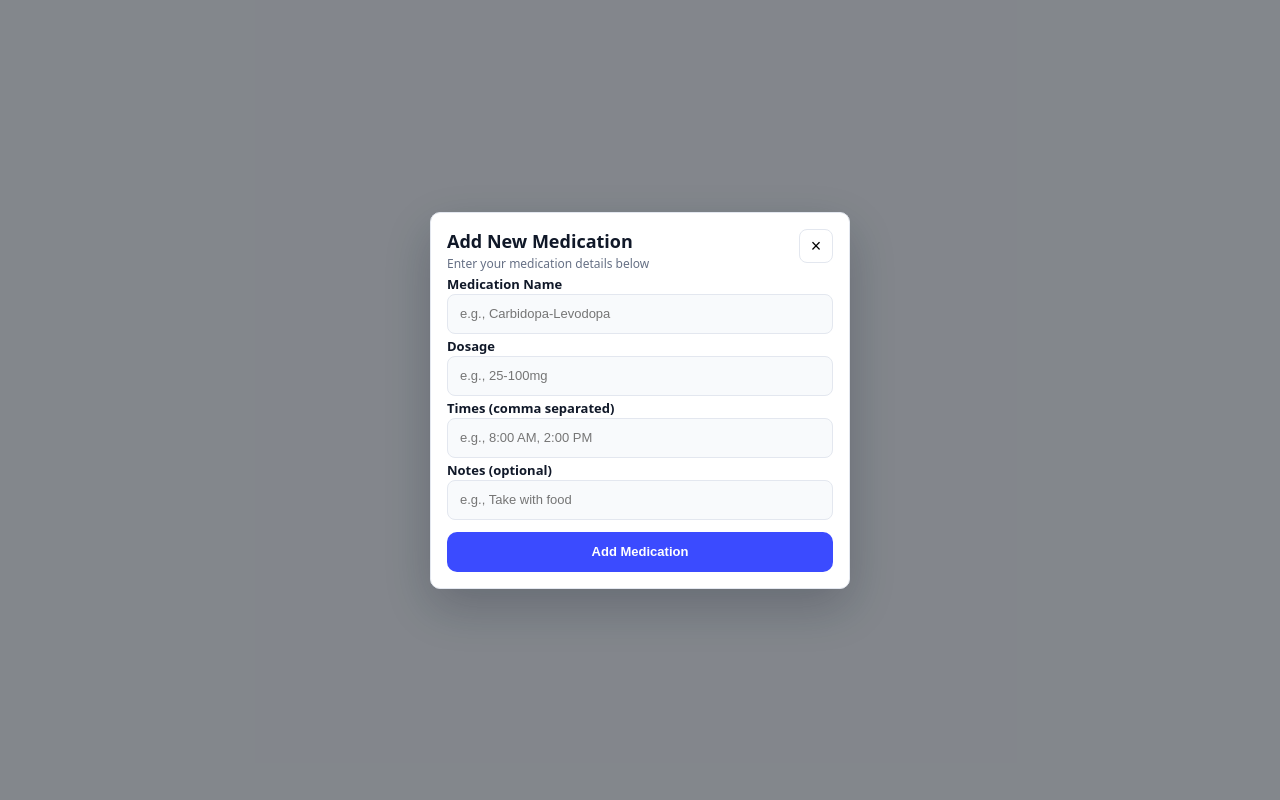
AddMedicationModal interactive test › shows validation error when times are missing
Step 1. Type "Carbidopa-Levodopa" into the field with placeholder "e.g., Carbidopa-Levodopa" → (640,314), box [447, 294, 833, 334]
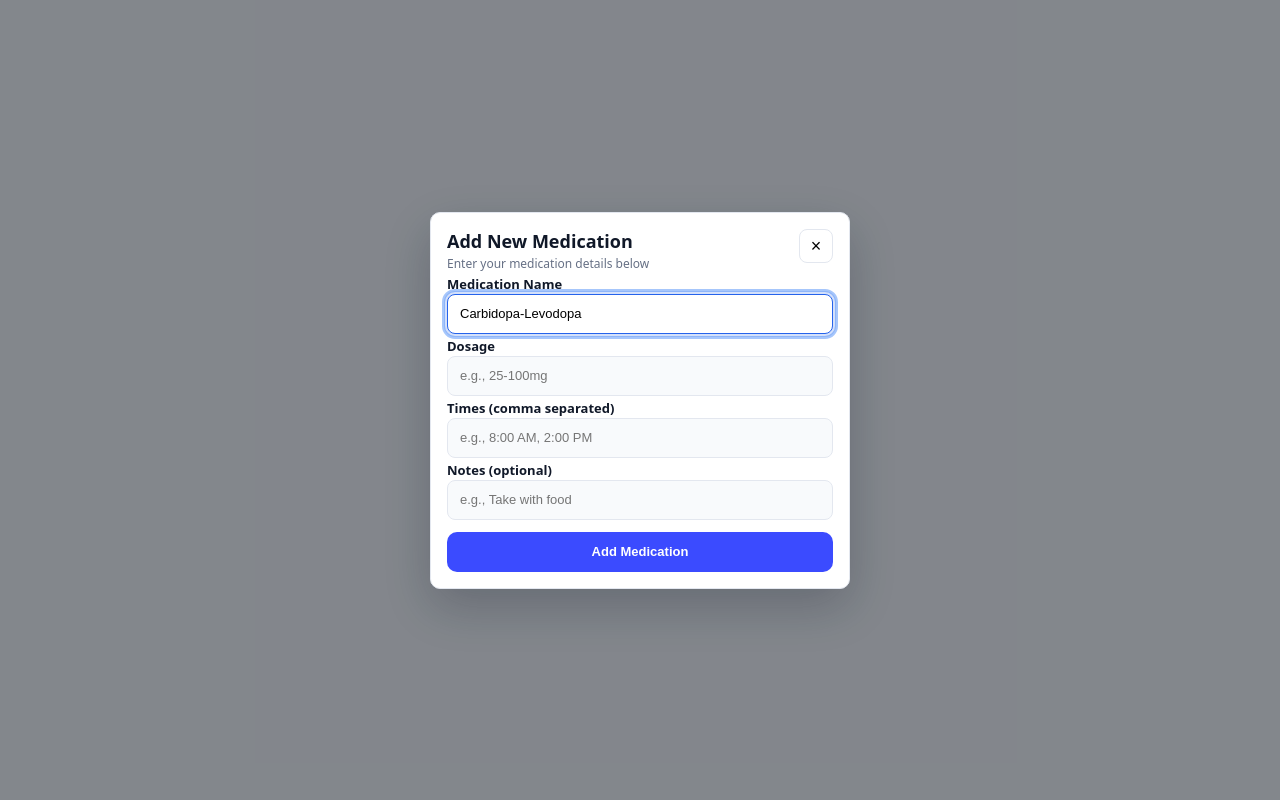
Step 2. Type "25-100mg" into the field with placeholder "e.g., 25-100mg" → (640,376), box [447, 356, 833, 396]
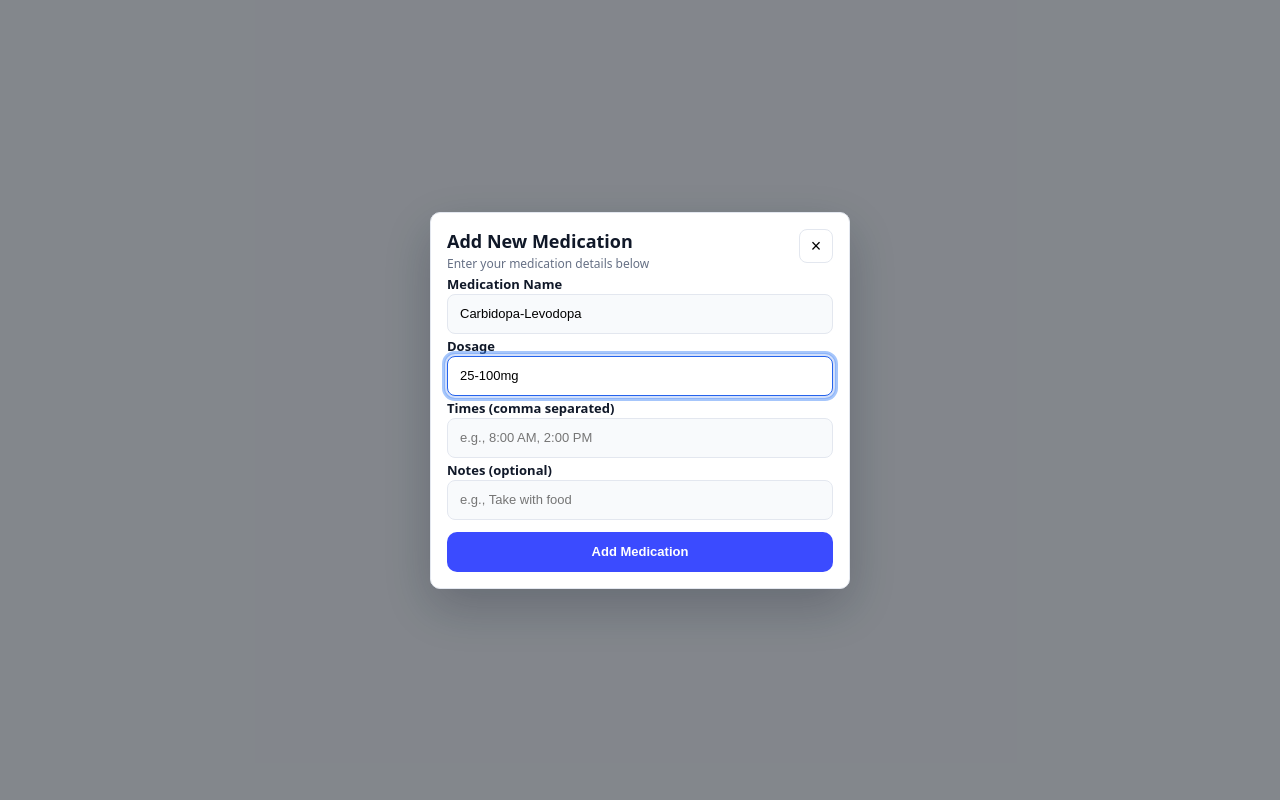
Step 3. Click the button "Add Medication" → (640,552), box [447, 532, 833, 572]
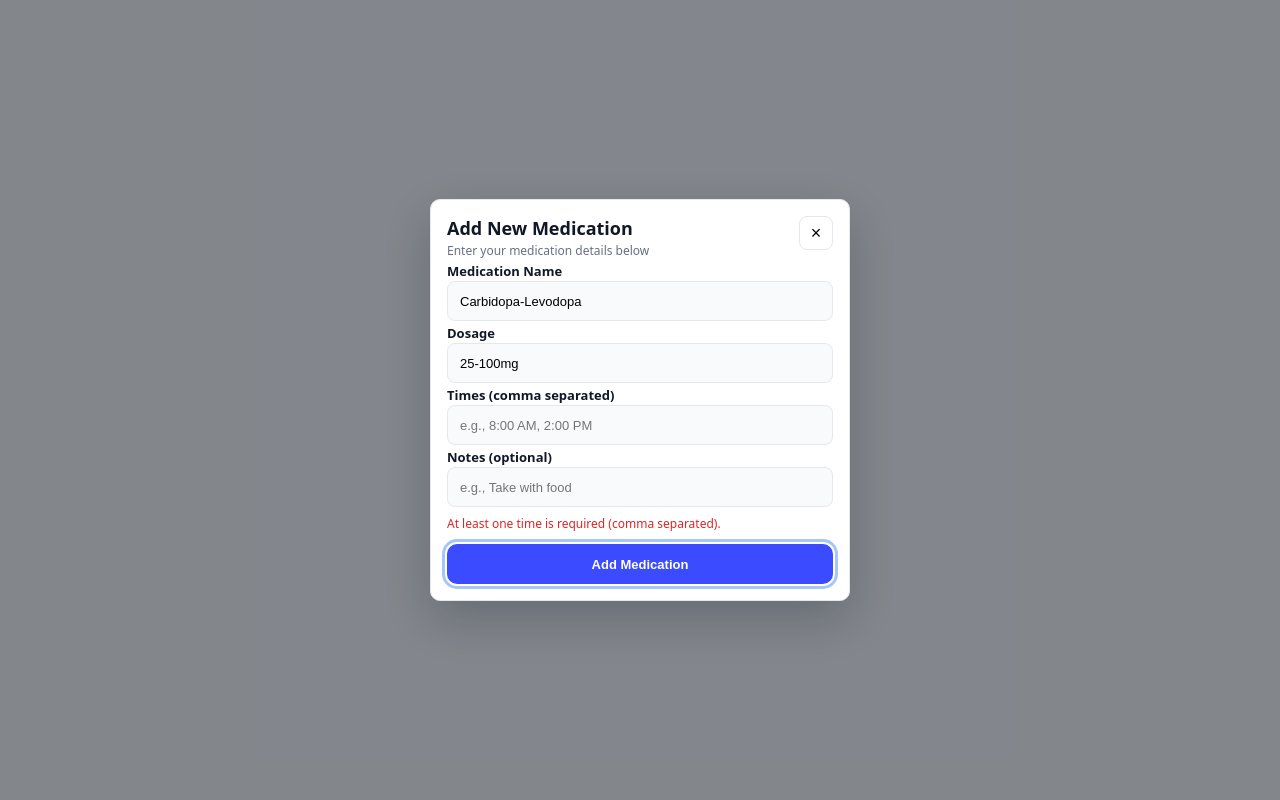
Now the text "At least one time is required (comma separated)." is shown, box [447, 515, 721, 532]
